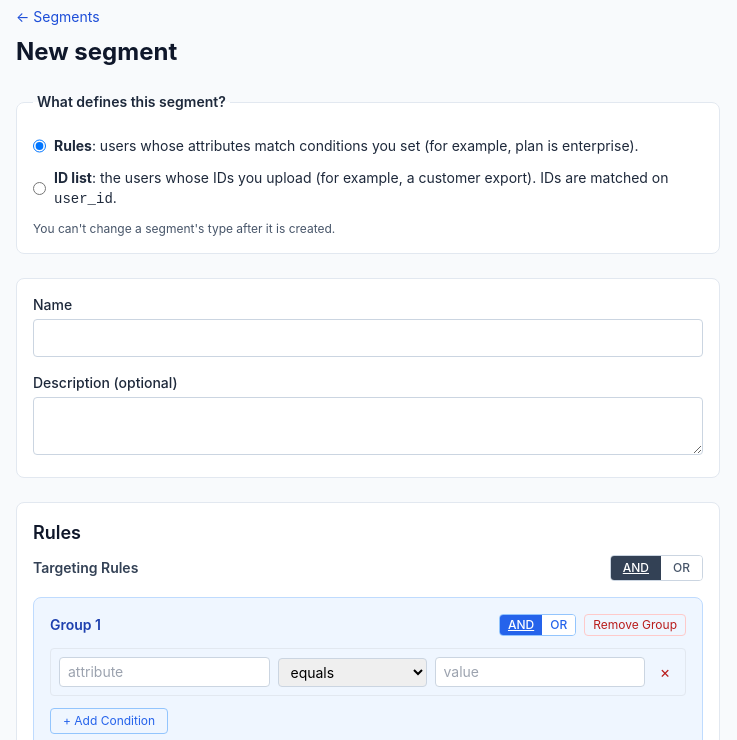
Scenario: NewSegmentPage › stops a short name and an empty condition before sending
Type "x" into the field labelled "Name". click: [368, 338]
box: left=33, top=319, right=703, bottom=357
(page scrolled)
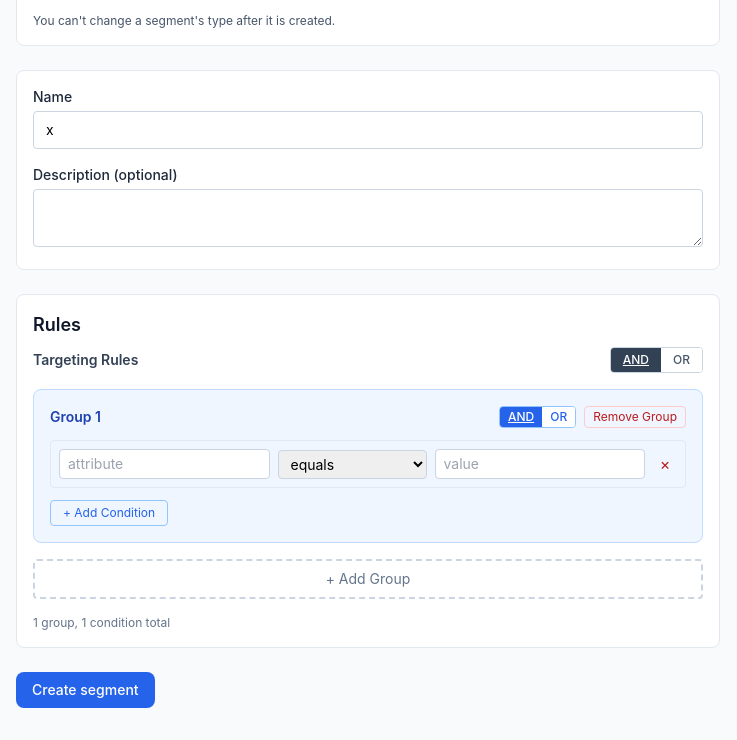
Click the button with test id "segment-create". click: [85, 690]
box: left=16, top=672, right=155, bottom=708
(page scrolled)
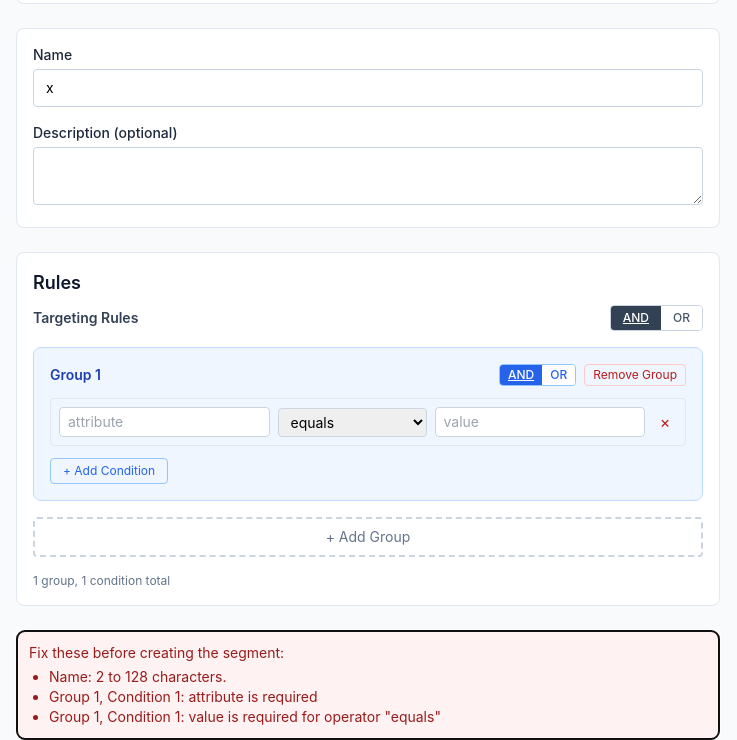
Check: the message with test id "segment-new-error" shows "Name: 2 to 128 characters.", box left=49, top=668, right=226, bottom=685
Check: the message with test id "segment-new-error" shows "Group 1, Condition 1: attribute is required", box left=49, top=688, right=318, bottom=705
